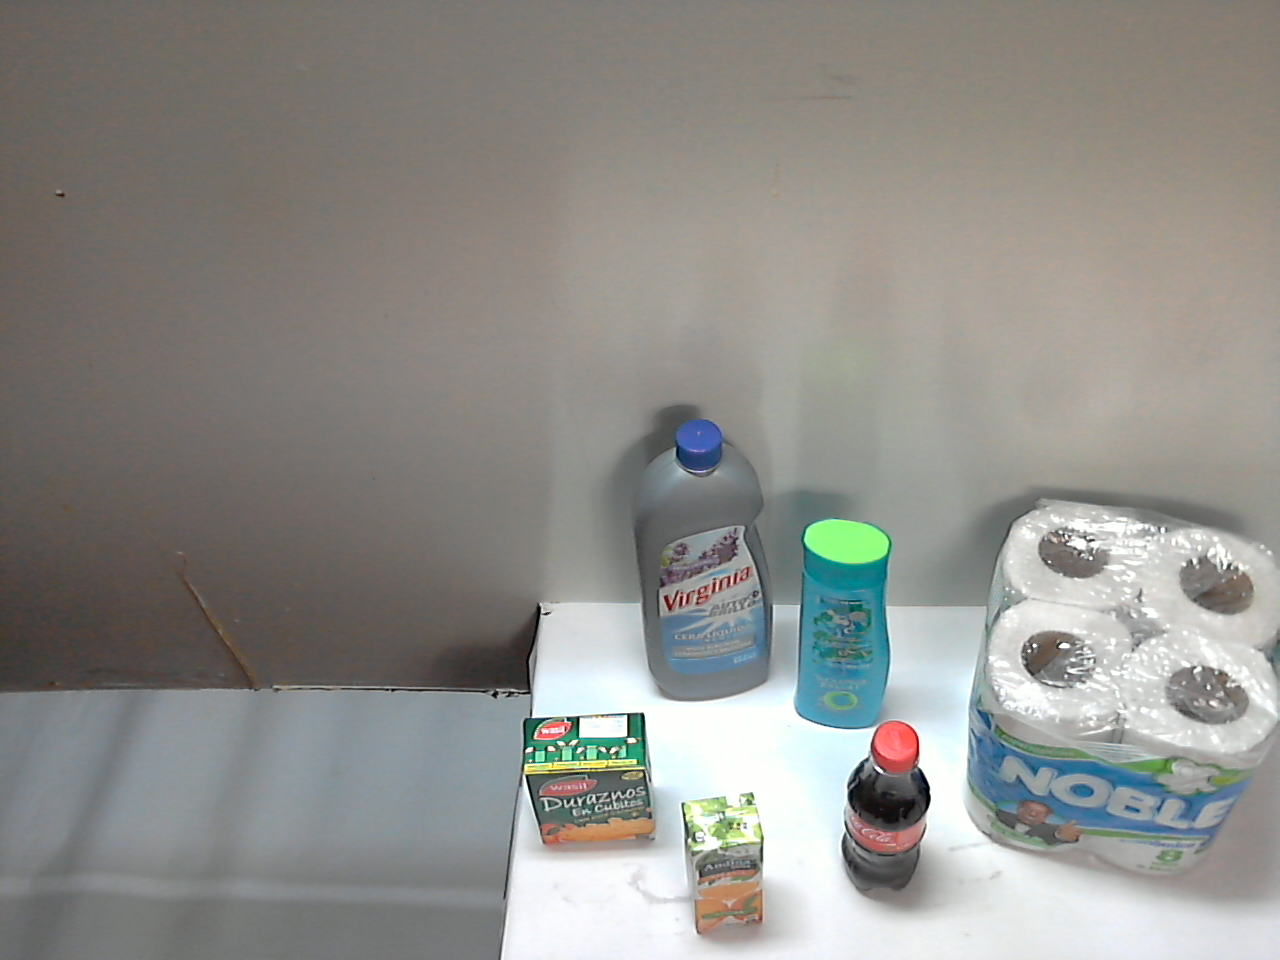aerosol: (908, 513, 1026, 770)
cera: (592, 432, 742, 717)
desodorante: (848, 726, 948, 853)
ketchup: (667, 686, 780, 859)
lata: (1039, 609, 1155, 779)
leche: (764, 522, 911, 739)
